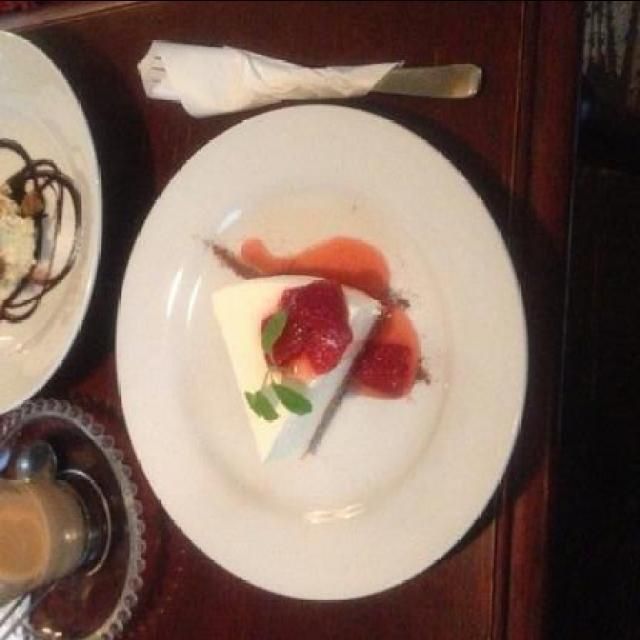Rare cheese cake: (177, 166, 446, 504)
